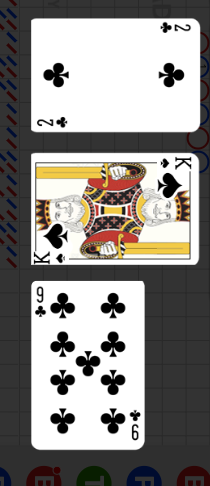2C: (35, 114, 70, 129)
9C: (33, 285, 48, 320), (127, 407, 142, 442)
